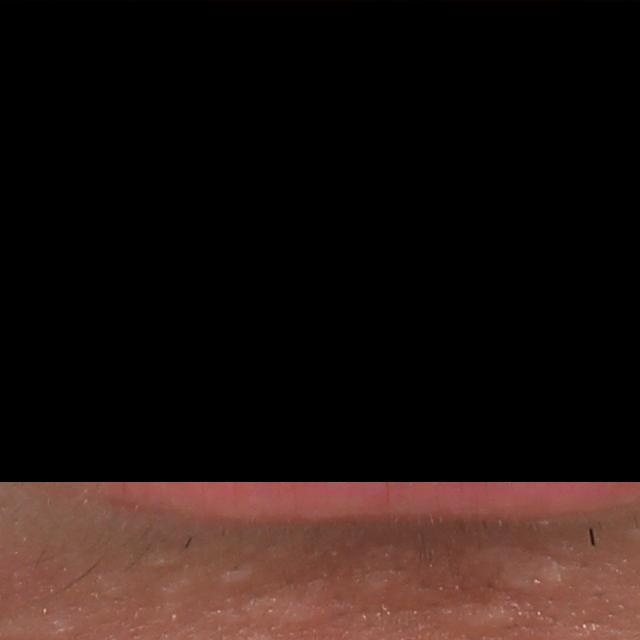hypertrophic_scar: (234, 578, 343, 631), (459, 546, 585, 591), (438, 600, 518, 636), (147, 573, 201, 601), (217, 560, 262, 586), (135, 552, 187, 573)
